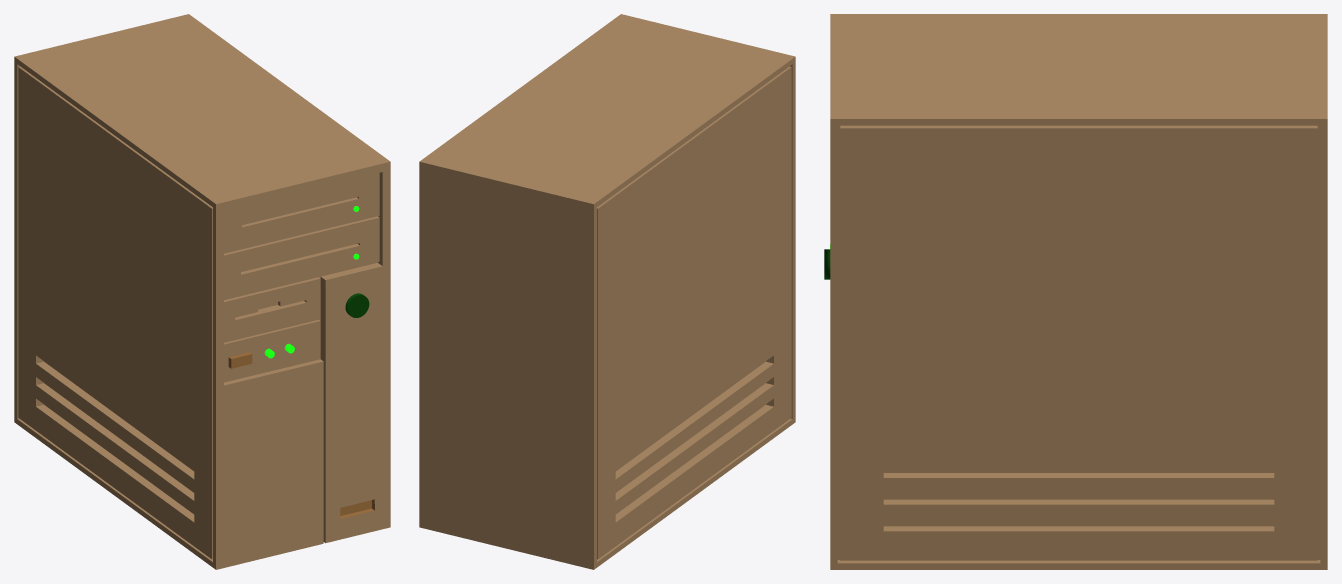
The model's file is workstation_tier4.fbx.
3 renders of one model, left to right at view 1: azimuth 30°, elevation 25°; view 2: azimuth 150°, elevation 25°; view 3: azimuth 270°, elevation 25°, orthographic. The views are drawn at different scales.
Parts seen in each view (by area): view 1: Cube; view 2: Cube; view 3: Cube.
Part boxes in pixels (left/top/right/bottom): Cube: left=14, top=14, right=390, bottom=569; Cube: left=419, top=14, right=795, bottom=569; Cube: left=830, top=14, right=1327, bottom=569.
Bounding box in the file's own units: 0.4262 × 0.8533 × 0.8636.
